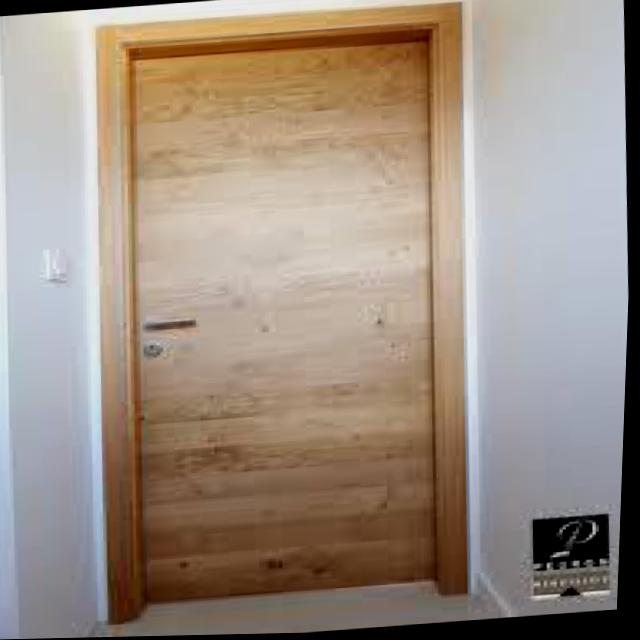close: (64, 0, 509, 638)
